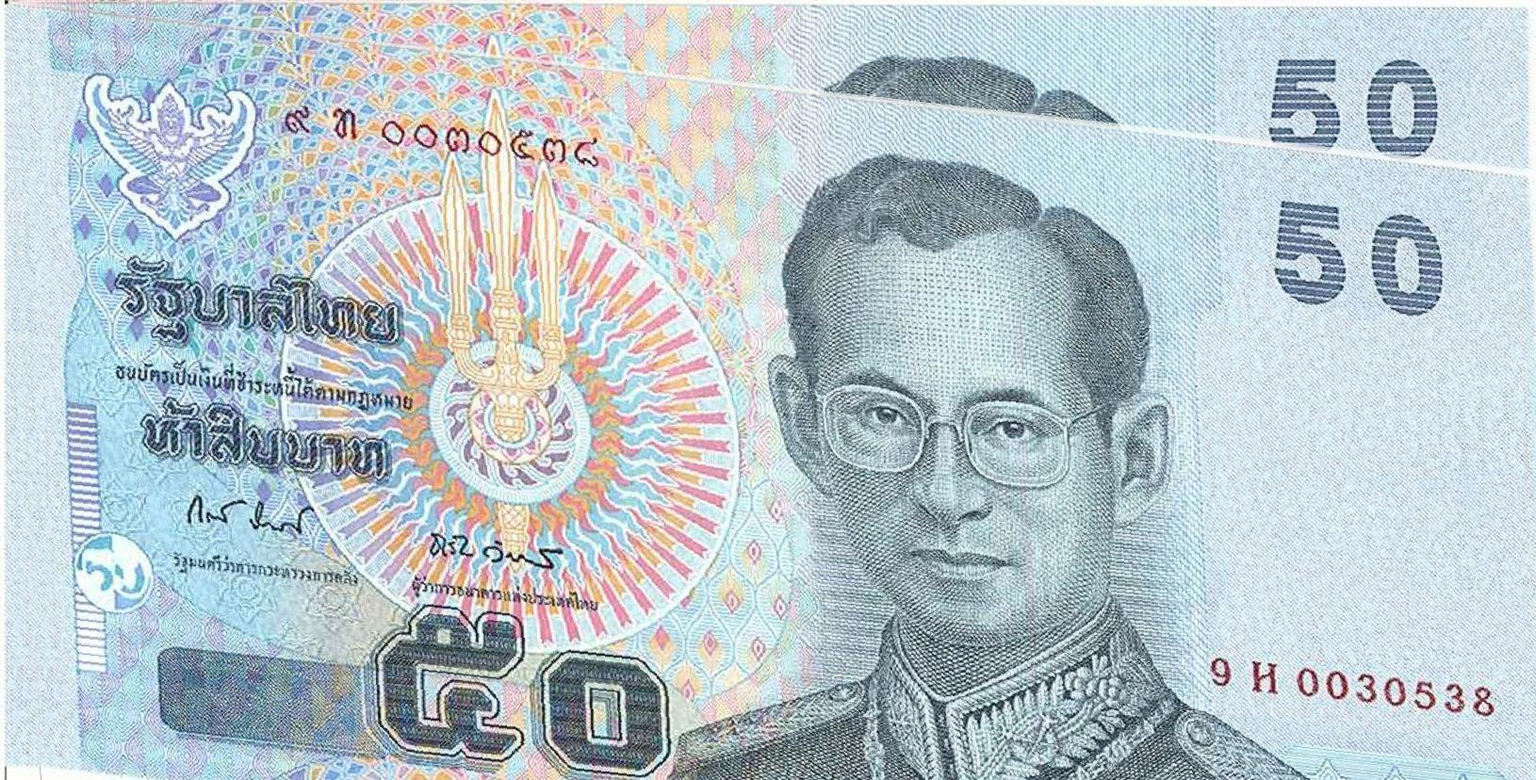50BahtTai: (6, 0, 1536, 780)
